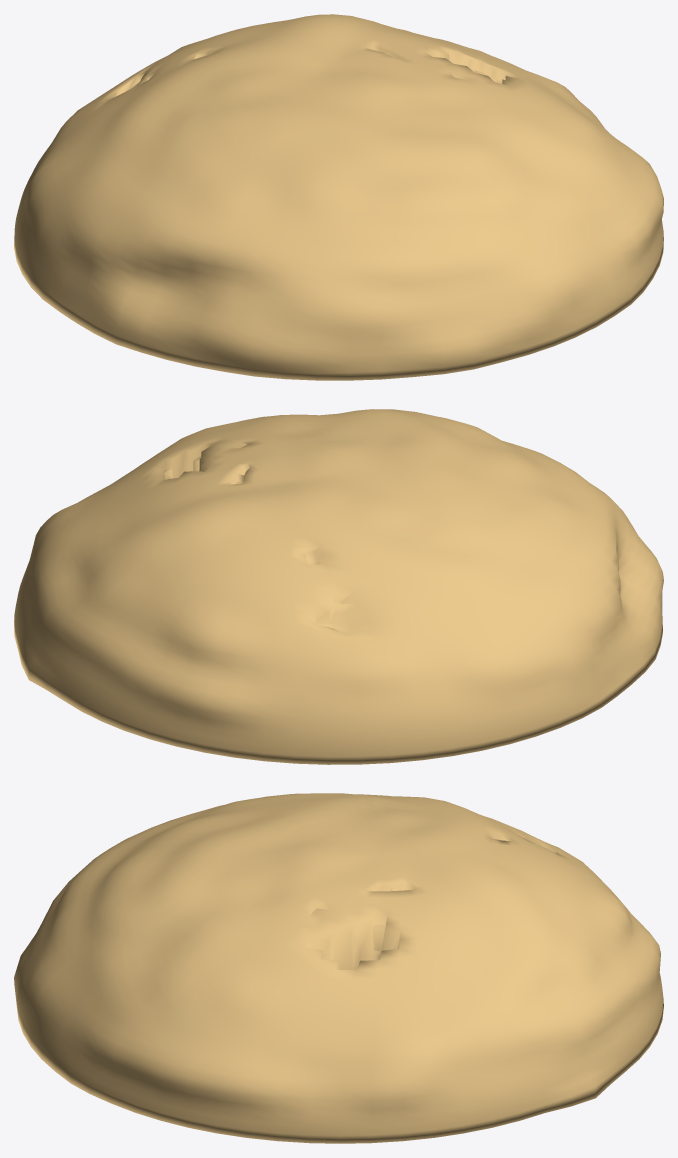
The model's file is mount-BViZXWUe.glb.
The picture shows the model from 3 angles, top to bottom: view 1: azimuth 30°, elevation 25°; view 2: azimuth 150°, elevation 25°; view 3: azimuth 270°, elevation 25°; orthographic projection.
Parts seen in each view (by area): view 1: mount; view 2: mount; view 3: mount.
Boxes of the visible parts, x1,y1,x2,y2 form: mount: (14,14,663,380); mount: (14,409,663,764); mount: (14,793,663,1143).
Bounding box in the file's own units: 63.68 × 18.11 × 64.19.
